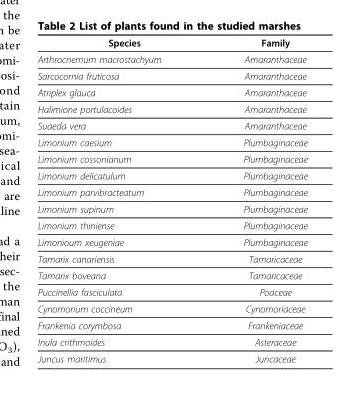table: (36, 36, 306, 363)
table column: (36, 36, 201, 363), (201, 36, 306, 363)
table column header: (36, 36, 306, 50)
table row: (36, 50, 306, 67), (36, 83, 306, 100), (36, 100, 306, 117), (36, 133, 306, 150), (36, 150, 306, 167), (36, 183, 306, 200), (36, 200, 306, 217), (36, 233, 306, 250), (36, 266, 306, 283), (36, 283, 306, 300), (36, 316, 306, 333), (36, 333, 306, 350), (36, 67, 306, 83), (36, 117, 306, 133), (36, 167, 306, 183), (36, 217, 306, 233), (36, 250, 306, 266), (36, 300, 306, 316), (36, 36, 306, 50), (36, 350, 306, 363)
